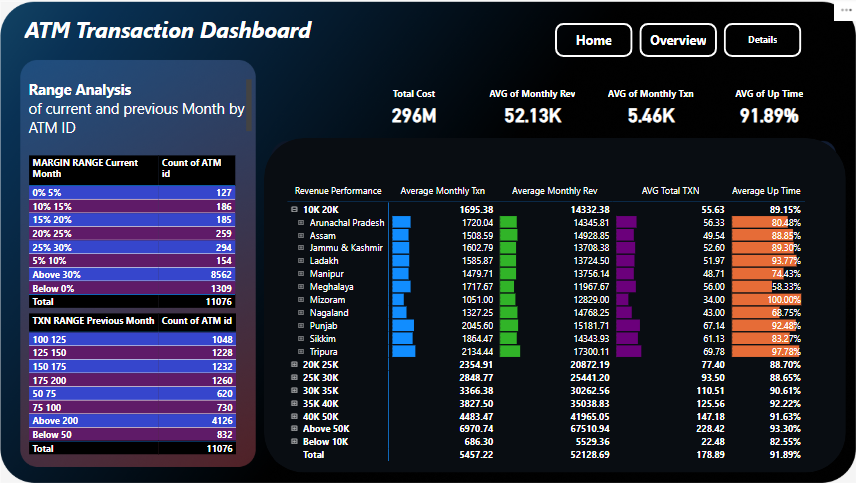

The page's visual inventory and layout, read from the dashboard file:
{"tool":"powerbi","page":{"name":"Details","canvas":[1280,720],"ordinal":2},"visuals":[{"type":"image","box":[0,0,1266.7,720],"z":0},{"type":"tableEx","fields":{"Values":["data set.MARGIN RANGE Current Month","data set.ATM id"]},"box":[41.7,228.3,366.7,263.3],"z":1000},{"type":"tableEx","fields":{"Values":["data set.TXN RANGE Previous Month","data set.ATM id"]},"box":[41.7,460,350,260],"z":2000},{"type":"shape","box":[391.7,206.7,855,491.7],"z":3000},{"type":"pivotTable","fields":{"Rows":["data set.Revenue Performance","data set.STATE","data set.ATM id"],"Values":["Avg(data set.Monthly Txn)","Avg(data set.Monthly Rev)","Avg(data set.AVG Total TXN)","Avg(data set.Up Time)"]},"box":[421.7,268.3,813.3,451.7],"z":4000},{"type":"textbox","box":[41.7,116.7,338.3,90],"z":5000},{"type":"cardVisual","fields":{"Data":["Sum(data set. Total Cost  )","Avg(data set.Monthly Rev)","Avg(data set.Monthly Txn)","Avg(data set.Up Time)"]},"box":[525,116.7,698.3,86.7],"z":6000},{"type":"pageNavigator","box":[820,38.3,363.3,50],"z":7000},{"type":"textbox","box":[35,20,461.7,76.7],"z":8000}]}

Visuals, with their boxes in screenshot pixels (x1, y1, x2, y2), scaled from the page's 1280x720 canvas onto the 856x483 screenshot:
image: bbox(0, 0, 847, 482)
tableEx - data set.MARGIN RANGE Current Month x data set.ATM id: bbox(28, 153, 273, 330)
tableEx - data set.TXN RANGE Previous Month x data set.ATM id: bbox(28, 309, 262, 482)
shape: bbox(262, 139, 834, 469)
pivotTable - data set.Revenue Performance x data set.STATE: bbox(282, 180, 826, 482)
textbox: bbox(28, 78, 254, 139)
cardVisual - Sum(data set. Total Cost  ) x Avg(data set.Monthly Rev): bbox(351, 78, 818, 136)
pageNavigator: bbox(548, 26, 791, 59)
textbox: bbox(23, 13, 332, 65)
